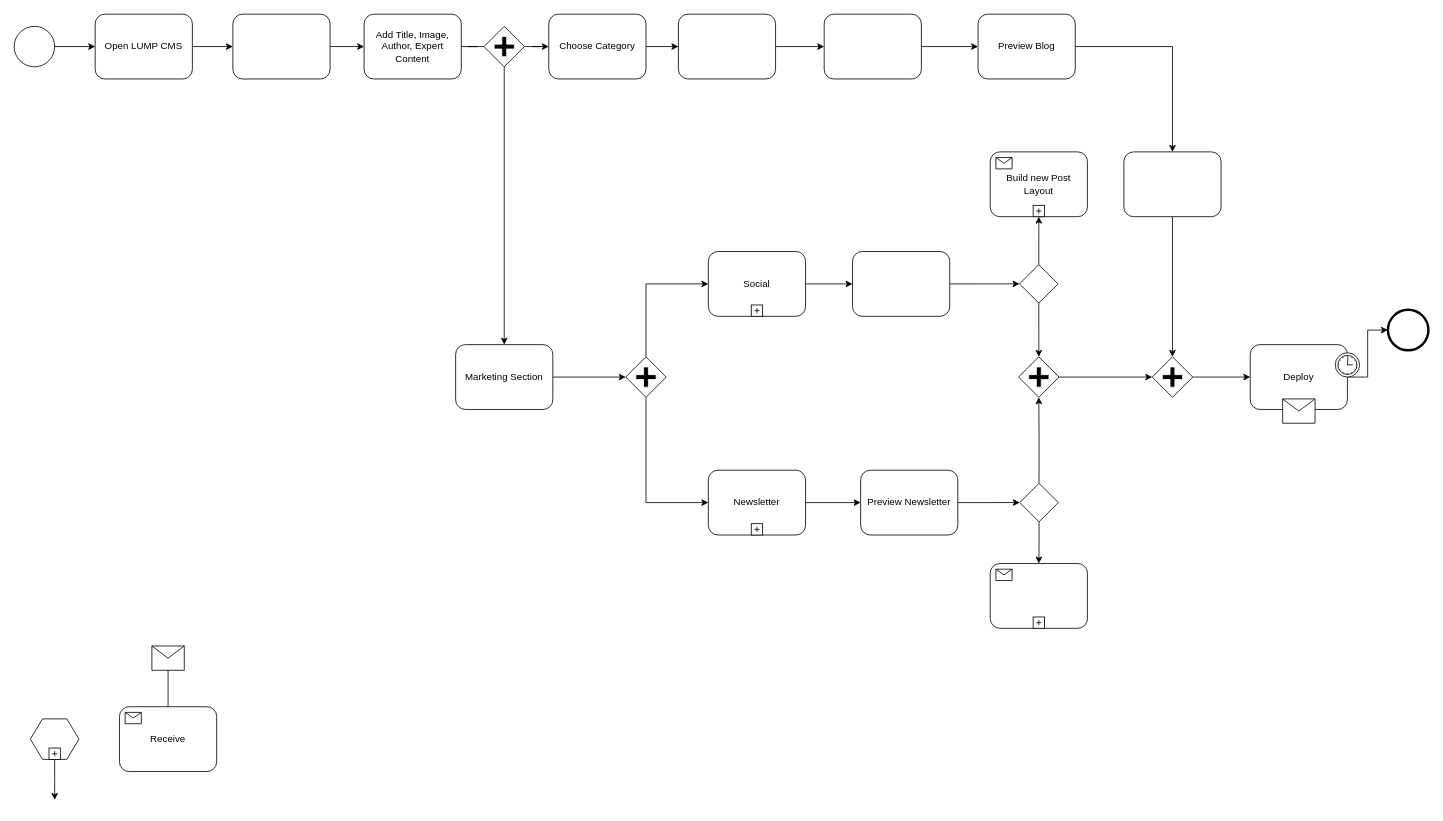
The diagram is 1443 pixels wide and 821 high, and some of its shapes have lost their labels. Here are the shapes that lost their labels. From the top down, the box of each, then its label:
(232, 13, 330, 79): Create New Blog
(678, 13, 776, 79): Choose Layout
(823, 13, 921, 79): Fill Layout section contents
(1123, 151, 1221, 217): Set Publishing date
(852, 251, 950, 316): Preview Posts
(989, 563, 1087, 628): Build new Newsletter Layout
